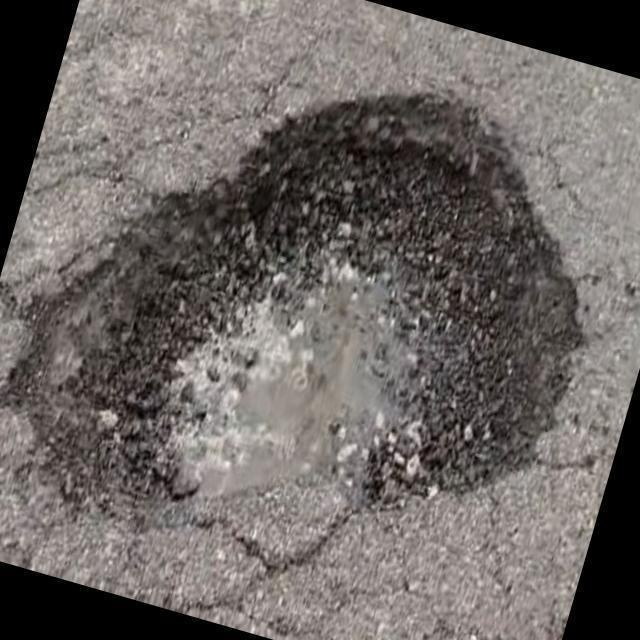pothole: (76, 107, 548, 494)
